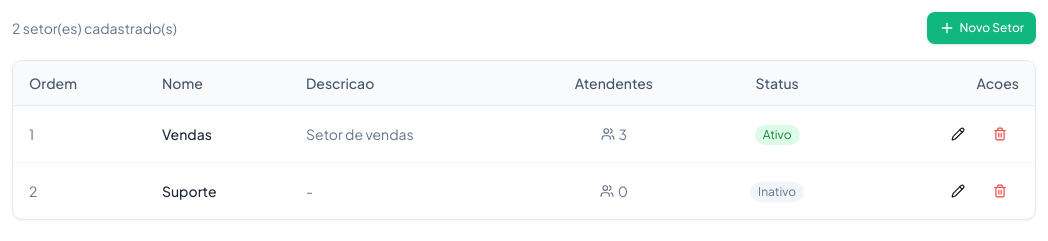
DepartmentsManagement › cancels edit mode
Check: the text "Vendas" is shown, box [146,106,290,162]
Click the 3rd button at (958, 134), box [939,118,977,150]
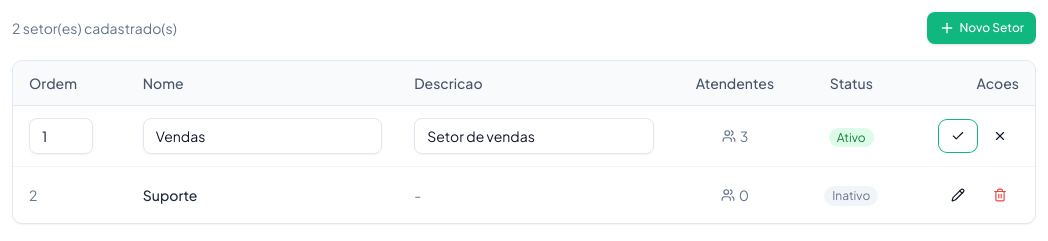
# Click cancel (X button) - second button in edit row actions
Click the 3rd button at (1000, 136), box [981,120,1019,152]
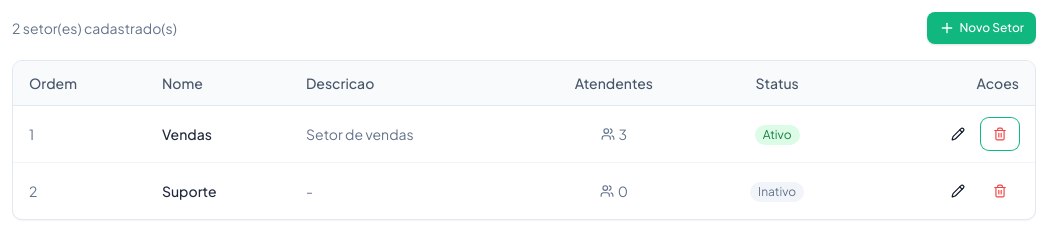
Check: the text "Vendas" is shown, box [146,106,290,162]
